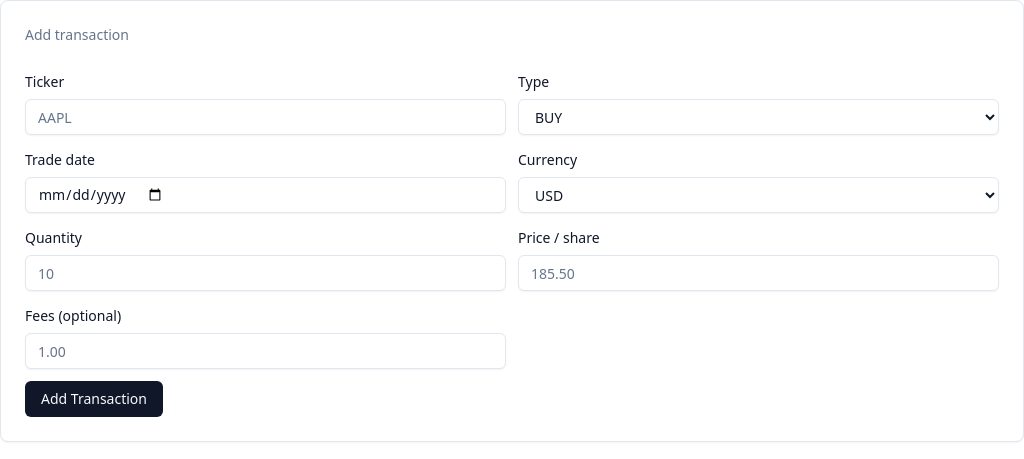
Scenario: ManualTransactionForm › shows trade fields for BUY and swaps to a single Amount field for DIVIDEND
Expected: the field labelled "Quantity" is shown, [25,255,506,291]
Expected: the field labelled "Price / share" is shown, [518,255,999,291]
Select "DIVIDEND" in the dropdown labelled "Type" at coordinates (758, 117), box [518,99,999,135]
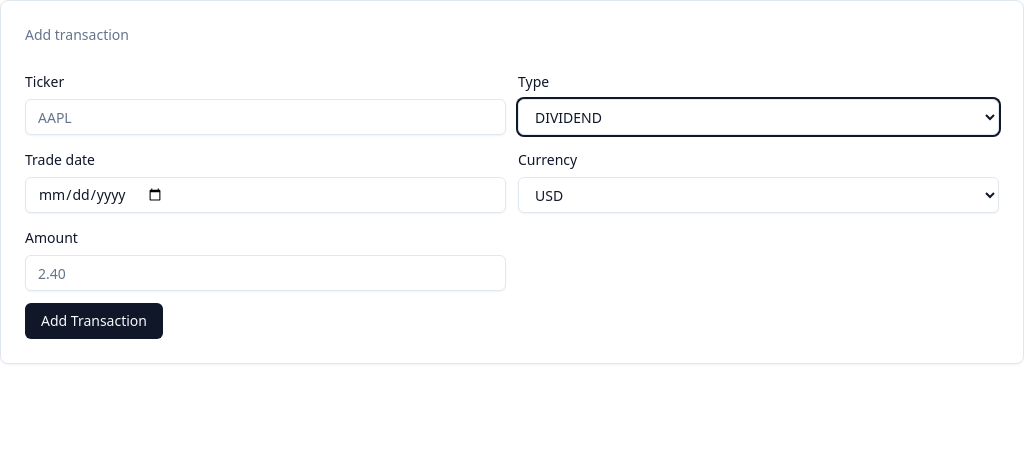
Expected: the field labelled "Amount" is shown, [25,255,506,291]
Expected: the label labelled "Quantity" is gone
Select "SPLIT" in the dropdown labelled "Type" at coordinates (758, 117), box [518,99,999,135]
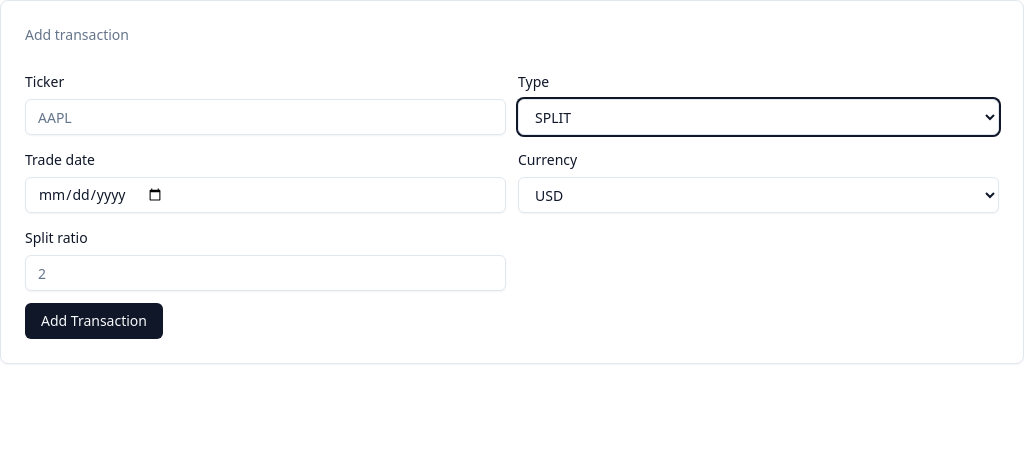
Expected: the field labelled "Split ratio" is shown, [25,255,506,291]
Expected: the label labelled "Amount" is gone
